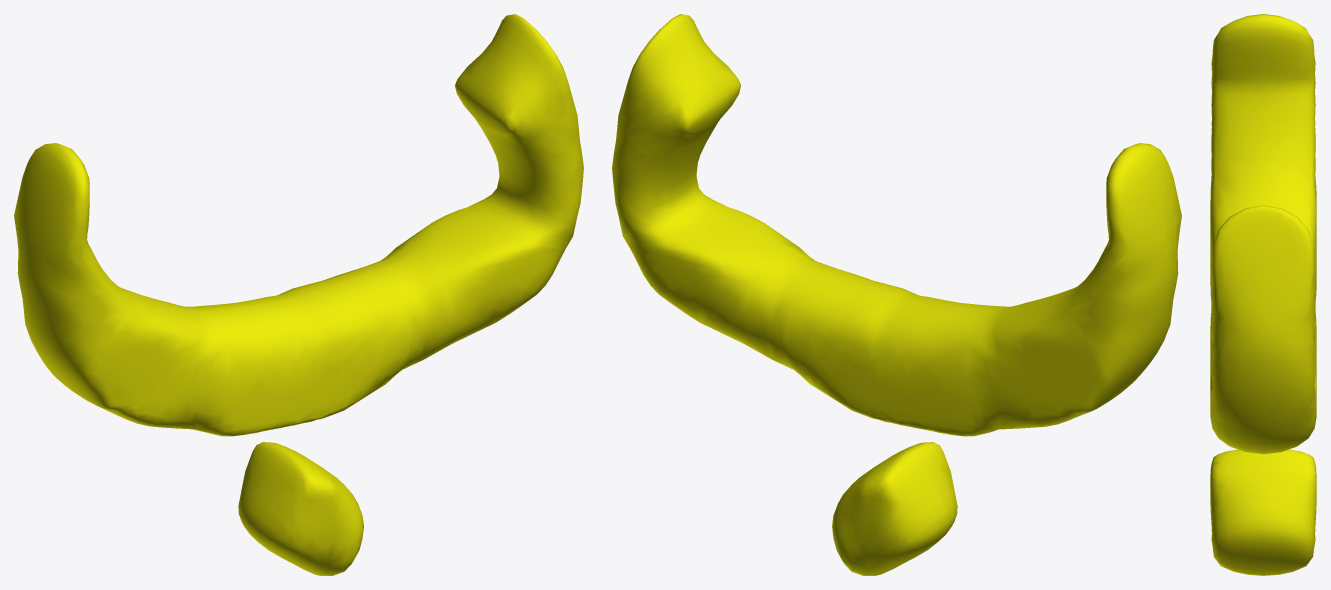
3 renders of one model, left to right at view 1: azimuth 30°, elevation 25°; view 2: azimuth 150°, elevation 25°; view 3: azimuth 270°, elevation 25°, orthographic. The views are drawn at different scales.
Parts seen in each view (by area): view 1: char_1; view 2: char_1; view 3: char_1.
Boxes of the visible parts, box(x1,y1,x2,y2) form: char_1: box(14, 14, 583, 575); char_1: box(612, 14, 1181, 575); char_1: box(1210, 14, 1316, 575).
Bounding box in the file's own units: 5.48 × 4.82 × 1.
